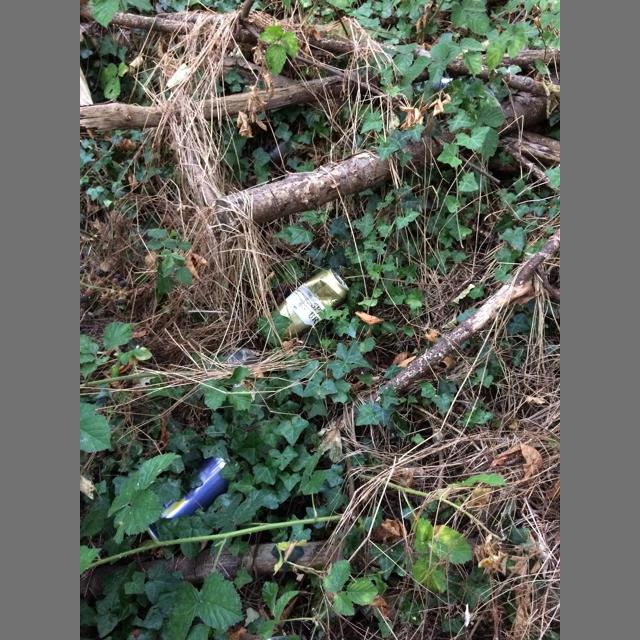litter: (148, 455, 233, 540), (278, 269, 349, 341), (225, 347, 264, 398)
